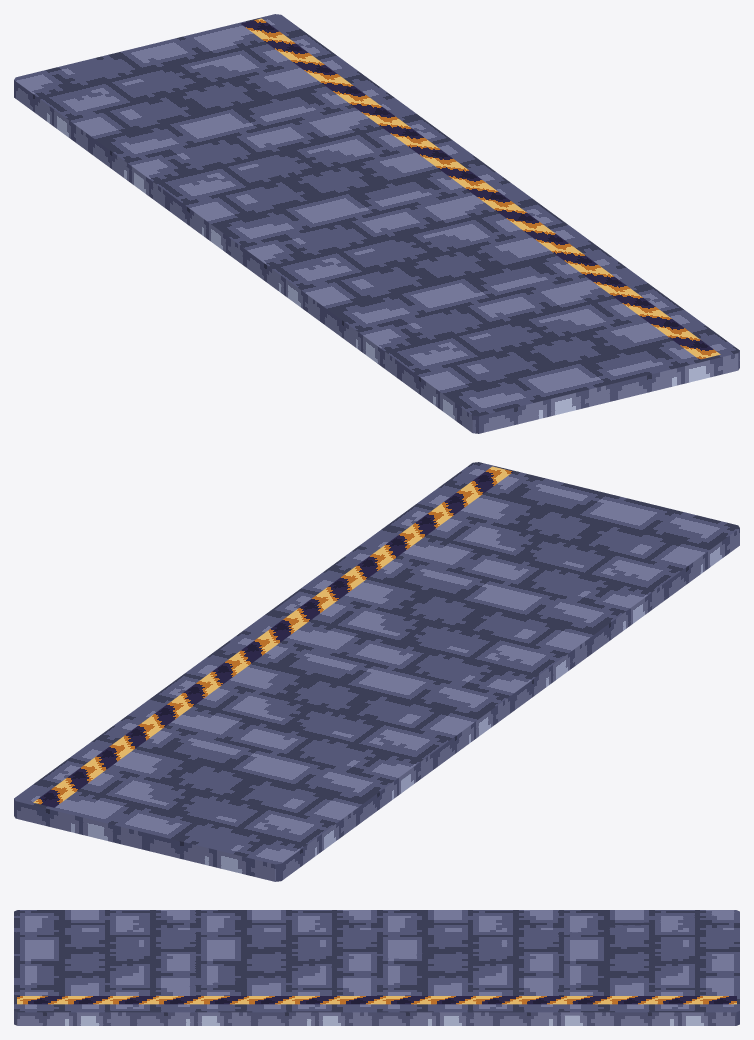
File: cyroom.platform.glb
The picture shows the model from 3 angles, top to bottom: view 1: azimuth 30°, elevation 25°; view 2: azimuth 150°, elevation 25°; view 3: azimuth 270°, elevation 25°; orthographic projection. The views are drawn at different scales.
Parts seen in each view (by area): view 1: kit_platform, kit_card_coping; view 2: kit_platform, kit_card_coping; view 3: kit_platform, kit_card_coping.
Part boxes in pixels (<box>): kit_platform: <box>14,14,739,433</box>; kit_card_coping: <box>240,18,720,359</box>; kit_platform: <box>14,462,739,881</box>; kit_card_coping: <box>33,466,513,807</box>; kit_platform: <box>14,910,739,1025</box>; kit_card_coping: <box>17,996,736,1004</box>.
Size of the model in its own units: 4 by 0.262 by 12.
Materials: 4 (4 with a texture image).
